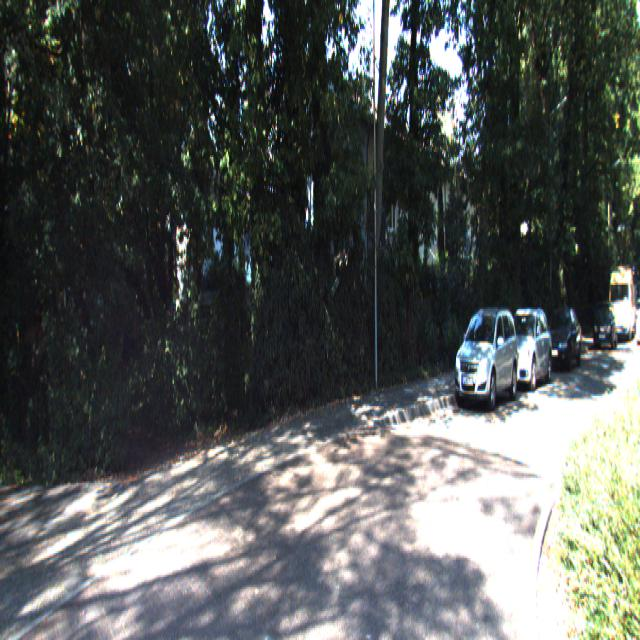Car: (452, 304, 518, 413), (497, 306, 553, 392), (545, 304, 581, 368), (605, 262, 634, 340), (592, 300, 616, 349)
